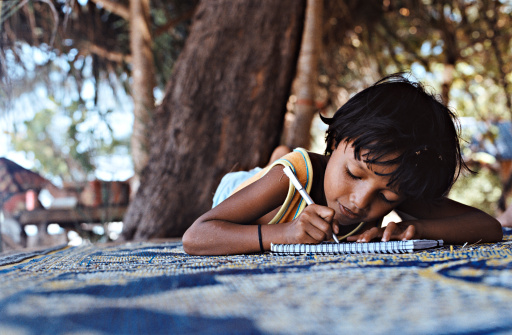deitado: (177, 84, 507, 264)
